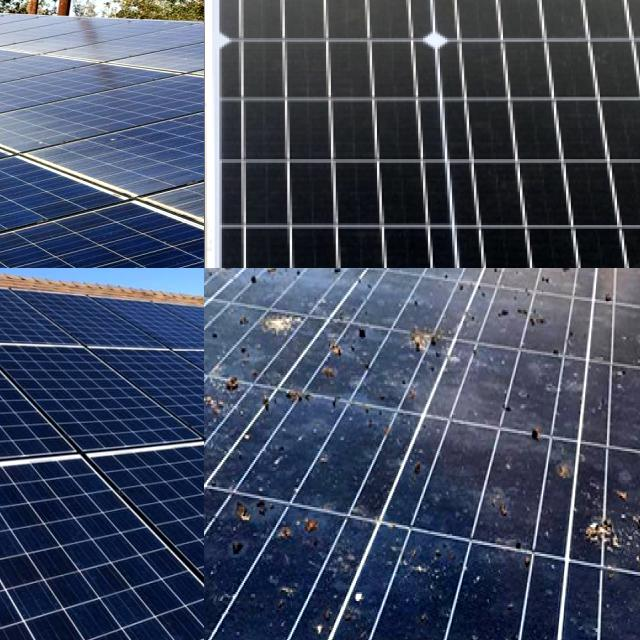bird: (394, 536, 466, 608), (230, 488, 278, 586), (572, 506, 640, 563), (305, 583, 371, 640), (221, 361, 276, 417), (487, 302, 563, 338), (403, 315, 450, 373), (550, 440, 590, 493), (204, 412, 233, 471), (300, 497, 327, 551), (268, 304, 308, 338), (432, 268, 488, 291), (521, 411, 548, 451), (333, 268, 389, 286), (414, 615, 444, 640), (545, 268, 593, 283), (299, 268, 329, 288), (204, 268, 226, 294), (320, 356, 340, 384), (244, 268, 279, 282), (300, 268, 321, 289), (535, 268, 580, 277)
crack: (206, 0, 640, 268), (0, 451, 204, 640), (72, 432, 204, 640), (0, 327, 200, 462), (0, 337, 127, 487), (10, 269, 176, 367), (90, 325, 204, 466), (0, 268, 99, 379), (89, 279, 204, 368)
